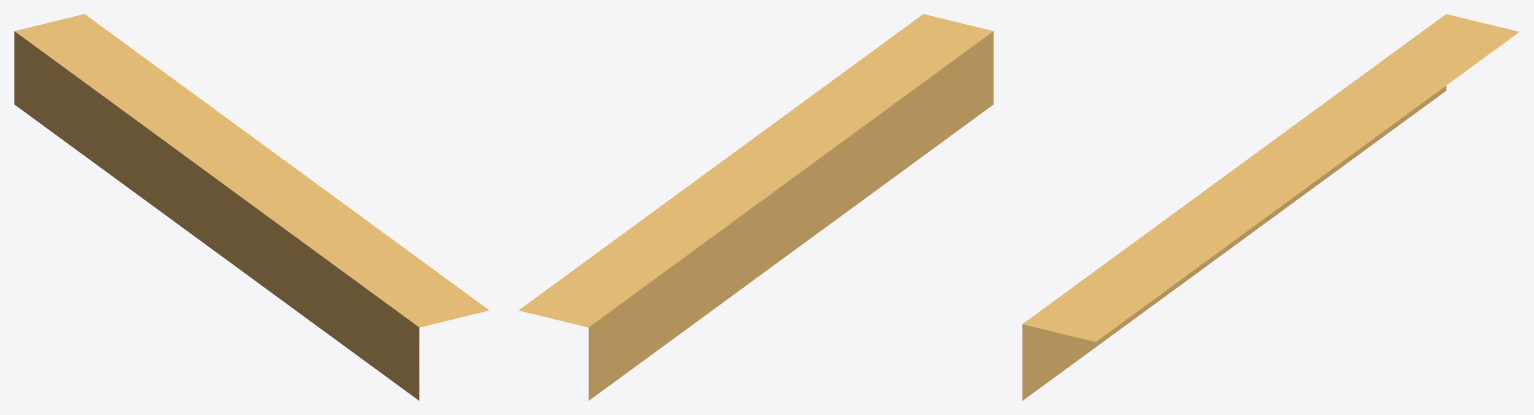
The picture shows the model from 3 angles, left to right: view 1: azimuth 30°, elevation 25°; view 2: azimuth 150°, elevation 25°; view 3: azimuth 330°, elevation 25°; orthographic projection. The views are drawn at different scales.
Size of the model in its own units: 0.1 by 0.1 by 1.
